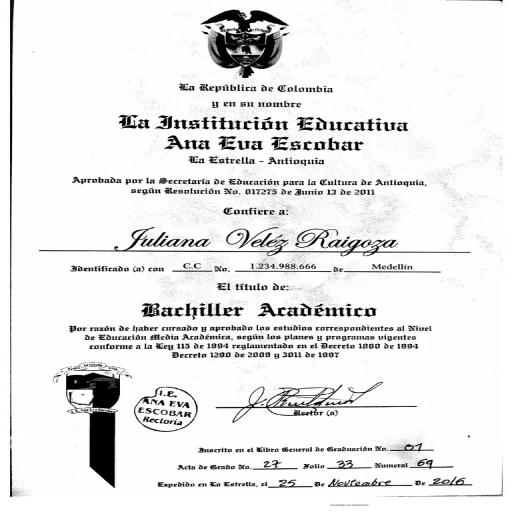bachillerato: (128, 296, 388, 326)
diploma: (8, 0, 505, 499)
escudo: (187, 5, 303, 81)
firma: (203, 372, 432, 424)
institucion: (112, 110, 422, 155)
nombre: (117, 221, 427, 259)
